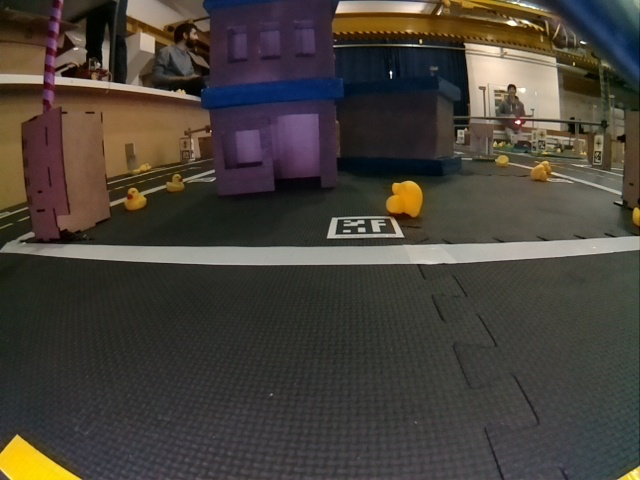Duckie: (388, 180, 422, 217), (125, 187, 145, 210), (168, 174, 185, 191), (531, 167, 546, 179), (497, 155, 509, 166)
QR code: (328, 216, 400, 239)
Traffic light: (514, 119, 522, 125)
